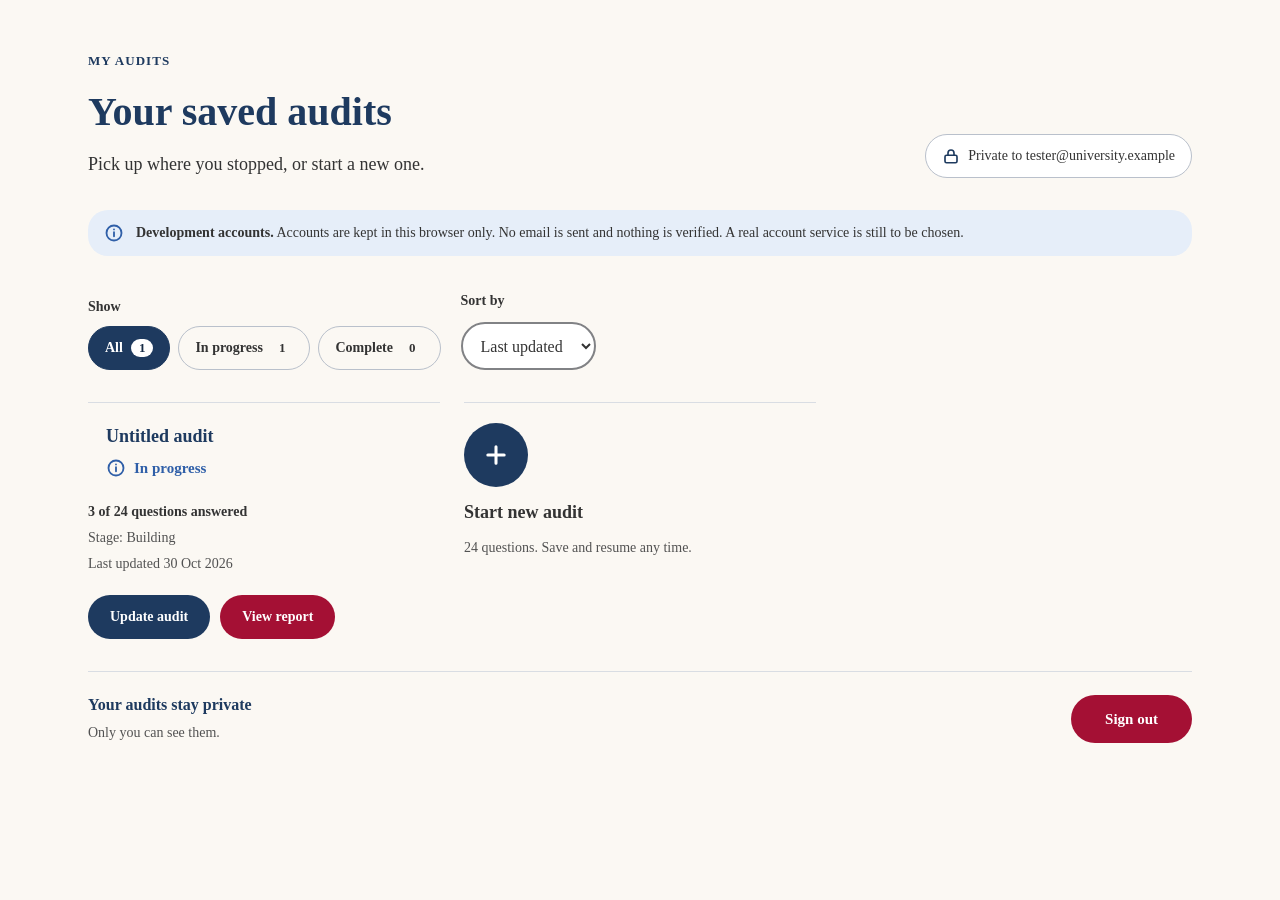
Scenario: DashboardPage › says so when an audit cannot be opened
Click the button "Update audit". click: (149, 617)
box: [88, 595, 210, 639]
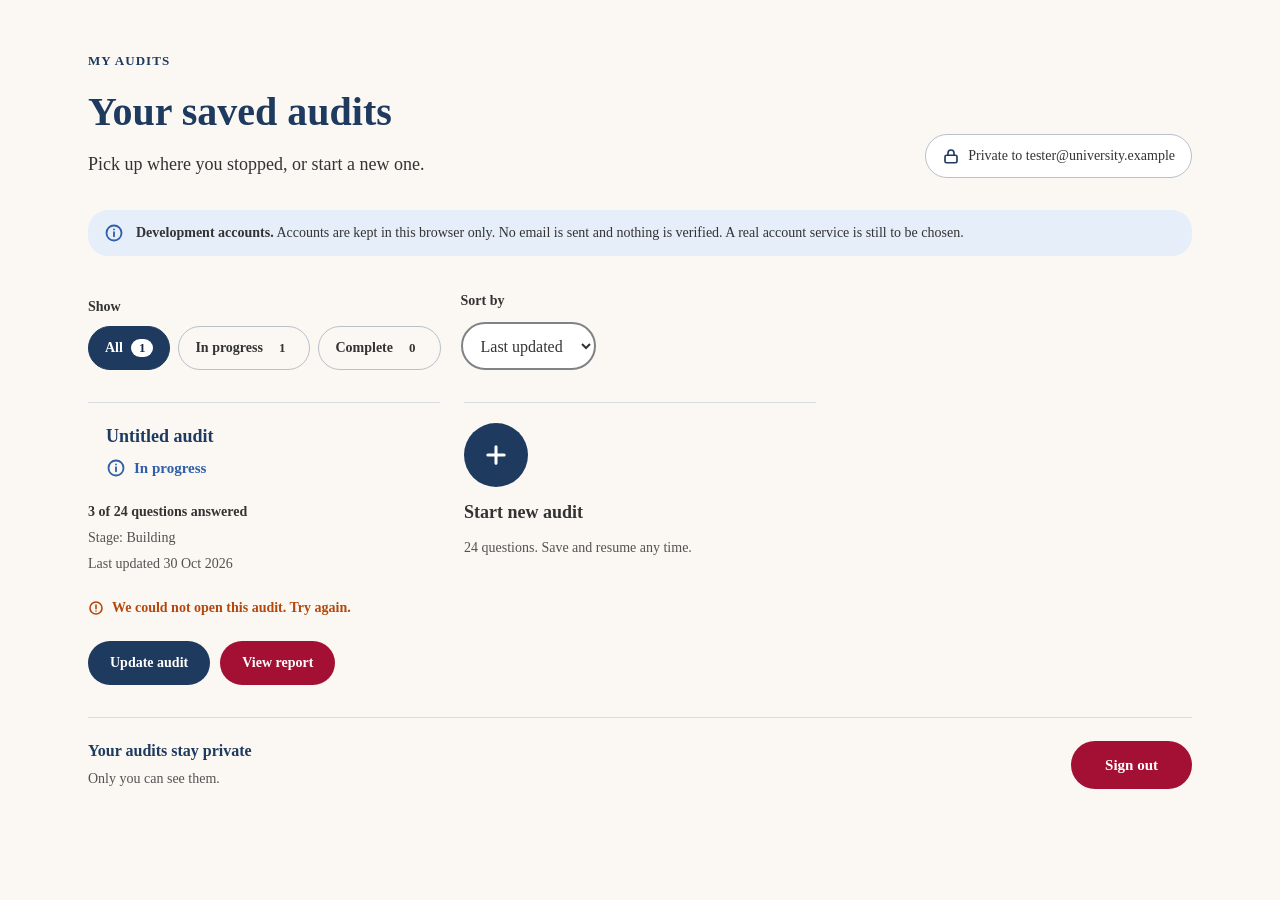
Expected: the message reads "We could not open this audit. Try again.", [112, 600, 351, 615]
